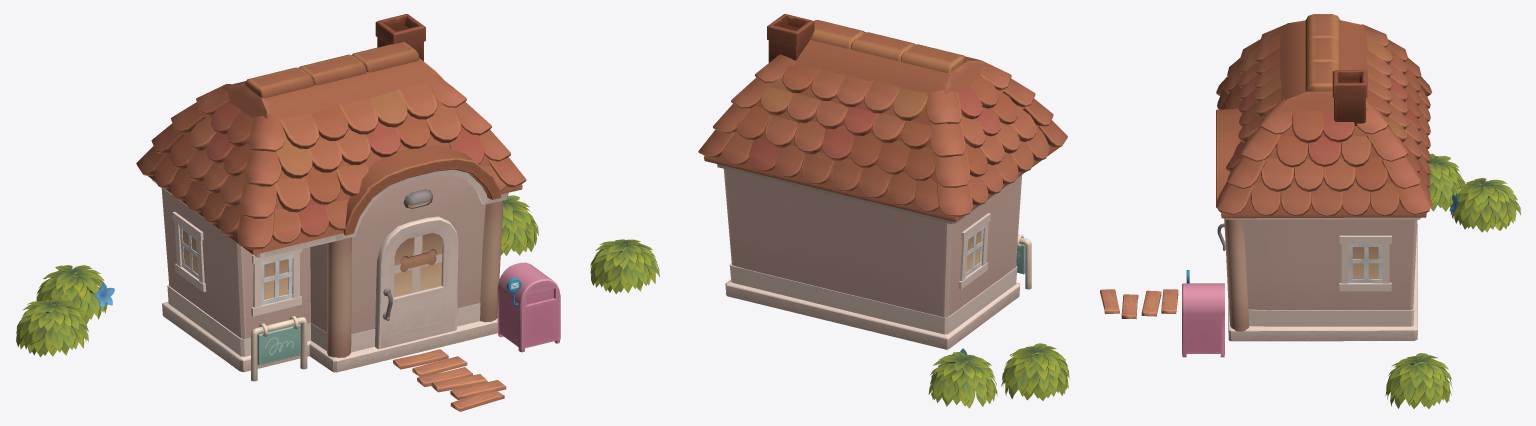
Rendered from ac-house-notreefence.glb.
3 renders of one model, left to right at view 1: azimuth 30°, elevation 25°; view 2: azimuth 150°, elevation 25°; view 3: azimuth 270°, elevation 25°, orthographic. The views are drawn at different scales.
Visible parts, largest first — view 1: base, roof_base, roof_corner, door_M_ATLAS_1_0, r_tile_c19, pilares, mailbox2, chimney, rooftop_M_ATLAS_1_0, sign_M_ATLAS_2_0, rooftop3, rooftop4 (+25 smaller); view 2: base, roof_corner, roof_base, r_tile_c19, chimney, rooftop_M_ATLAS_1_0, rooftop3, rooftop4, r_tile_a4, r_tile_c28, r_tile_d4, r_tile_b5 (+22 smaller); view 3: base, r_tile_c19, roof_corner, roof_base, mailbox2, pilares, chimney, rooftop4, rooftop3, rooftop_M_ATLAS_1_0, window_h1_M_ATLAS_1_0.002, window_h_M_ATLAS_1_0.002 (+5 smaller).
Boxes of the visible parts, left/top/right/bottom form: base: left=151, top=169, right=508, bottom=372; roof_base: left=148, top=58, right=522, bottom=254; roof_corner: left=136, top=74, right=526, bottom=249; door_M_ATLAS_1_0: left=375, top=216, right=458, bottom=349; r_tile_c19: left=155, top=87, right=454, bottom=236; pilares: left=327, top=200, right=503, bottom=357; mailbox2: left=497, top=262, right=560, bottom=352; chimney: left=375, top=14, right=425, bottom=61; rooftop_M_ATLAS_1_0: left=244, top=67, right=314, bottom=98; sign_M_ATLAS_2_0: left=257, top=324, right=300, bottom=364; rooftop3: left=299, top=54, right=366, bottom=85; rooftop4: left=352, top=42, right=419, bottom=72; base: left=717, top=164, right=1033, bottom=349; roof_corner: left=698, top=54, right=1067, bottom=217; roof_base: left=704, top=32, right=1059, bottom=221; r_tile_c19: left=958, top=76, right=1048, bottom=205; chimney: left=767, top=14, right=814, bottom=62; rooftop_M_ATLAS_1_0: left=900, top=44, right=966, bottom=72; rooftop3: left=851, top=32, right=914, bottom=60; rooftop4: left=810, top=20, right=864, bottom=48; r_tile_a4: left=822, top=125, right=854, bottom=160; r_tile_c28: left=864, top=80, right=899, bottom=113; r_tile_d4: left=892, top=89, right=927, bottom=120; r_tile_b5: left=878, top=140, right=910, bottom=174; base: left=1224, top=217, right=1420, bottom=341; r_tile_c19: left=1251, top=109, right=1399, bottom=217; roof_corner: left=1216, top=24, right=1432, bottom=214; roof_base: left=1216, top=20, right=1426, bottom=218; mailbox2: left=1182, top=283, right=1224, bottom=357; pilares: left=1224, top=219, right=1249, bottom=331; chimney: left=1332, top=70, right=1367, bottom=125; rooftop4: left=1305, top=61, right=1340, bottom=91; rooftop3: left=1305, top=37, right=1340, bottom=66; rooftop_M_ATLAS_1_0: left=1305, top=14, right=1340, bottom=43; window_h1_M_ATLAS_1_0.002: left=1339, top=282, right=1391, bottom=291; window_h_M_ATLAS_1_0.002: left=1339, top=235, right=1391, bottom=243.
Size of the model in its own units: 0.0918 by 0.0494 by 0.0716.
4 materials, 4 textured.
